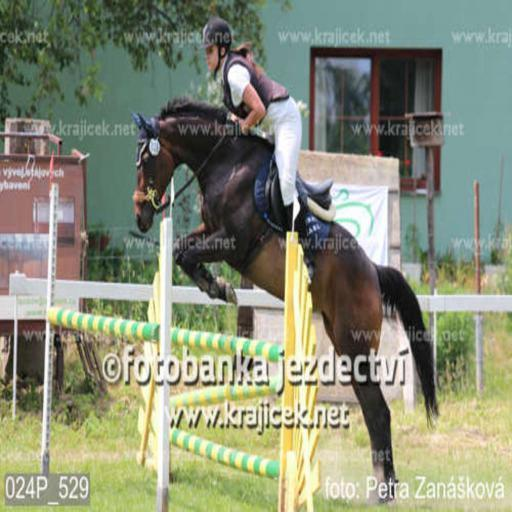horse: (131, 95, 440, 509)
